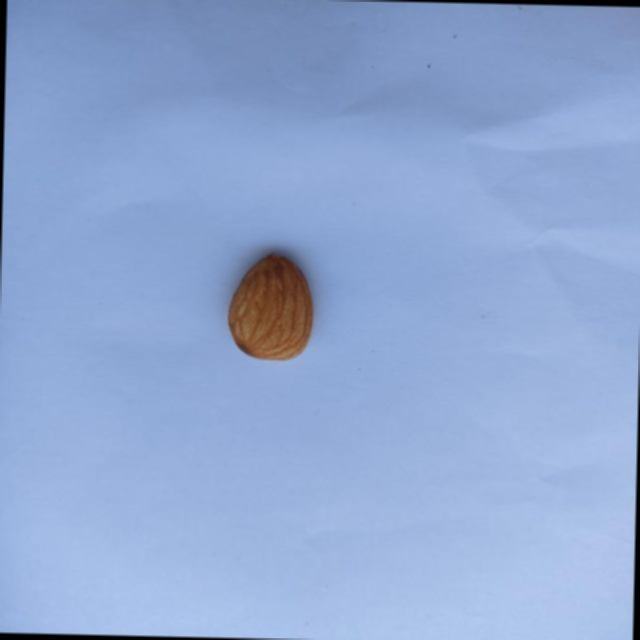grade1: (221, 245, 325, 368)
